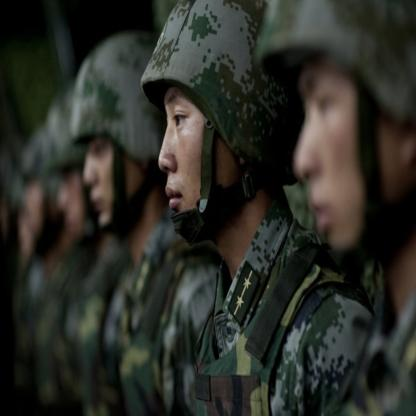Helmet: (255, 0, 415, 306), (149, 20, 291, 231), (65, 29, 172, 239)
